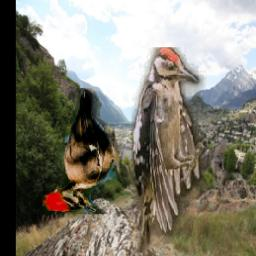Woodpecker: (131, 48, 207, 254), (43, 89, 122, 215)
